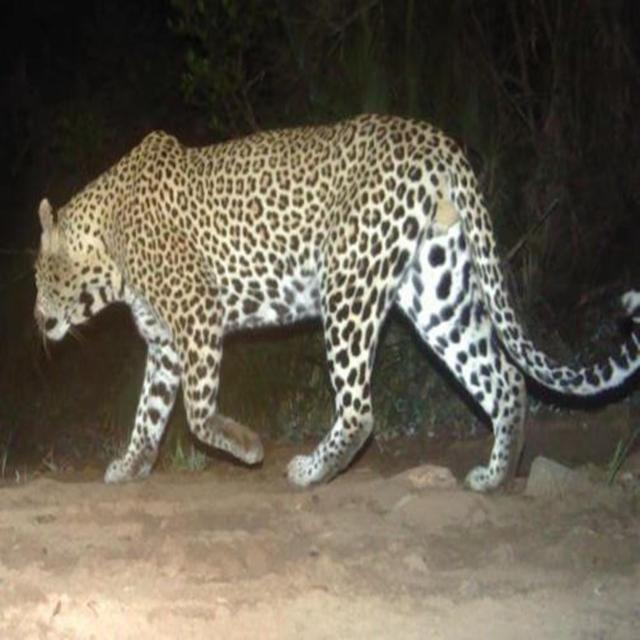Leopard: (14, 107, 640, 530)
